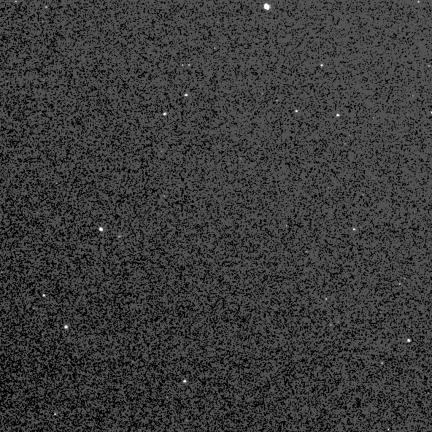blob: (264, 4, 271, 11), (99, 227, 103, 232), (64, 325, 68, 329), (164, 113, 168, 117), (353, 228, 357, 232), (184, 380, 187, 384), (295, 110, 299, 113), (336, 114, 340, 117), (185, 94, 189, 97), (321, 64, 324, 68), (43, 294, 46, 297), (408, 339, 411, 342)
